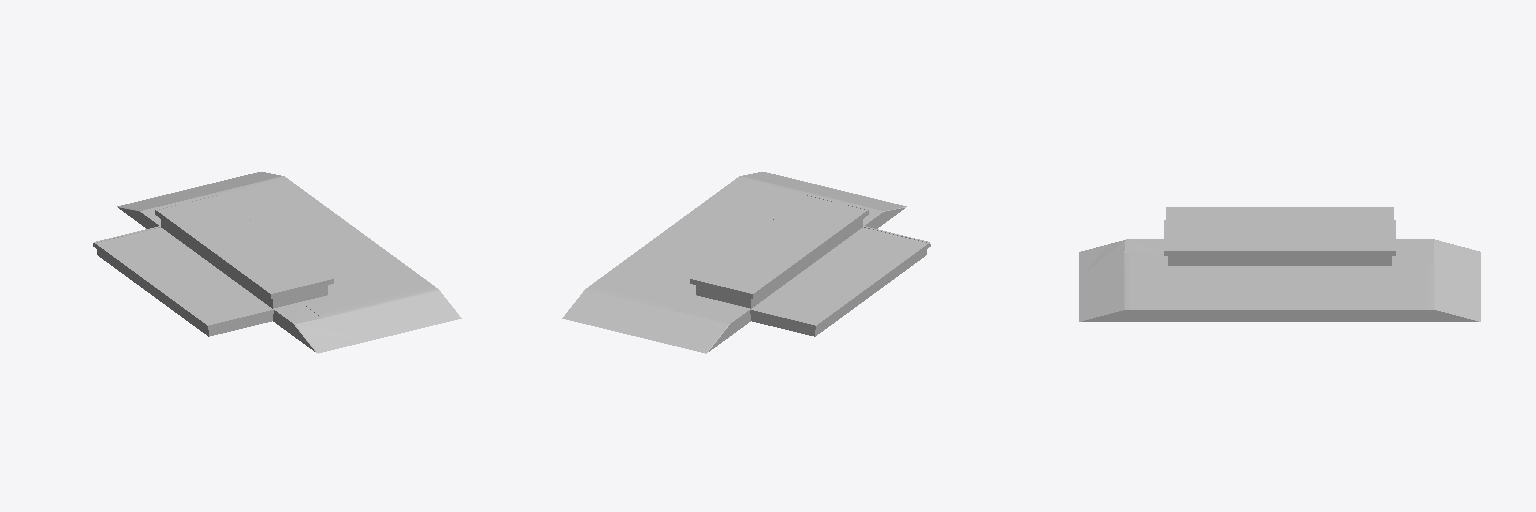
The model's file is manyramp.obj.
3 views of the same model, side by side, from view 1: azimuth 30°, elevation 25°; view 2: azimuth 150°, elevation 25°; view 3: azimuth 270°, elevation 25° (orthographic).
Parts seen in each view (by area): view 1: Cube.002; view 2: Cube.002; view 3: Cube.002.
Part boxes in pixels (bbox=[...]): Cube.002: bbox=[93, 172, 461, 353]; Cube.002: bbox=[562, 172, 930, 353]; Cube.002: bbox=[1079, 207, 1480, 321].
Size of the model in its own units: 6.83 by 0.9117 by 11.27.